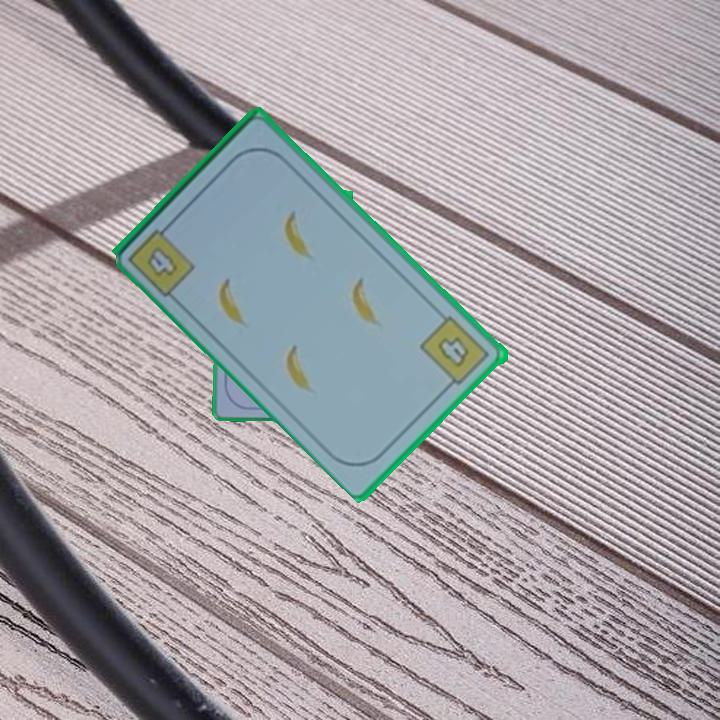4b: (417, 312, 494, 393), (124, 217, 199, 300)
